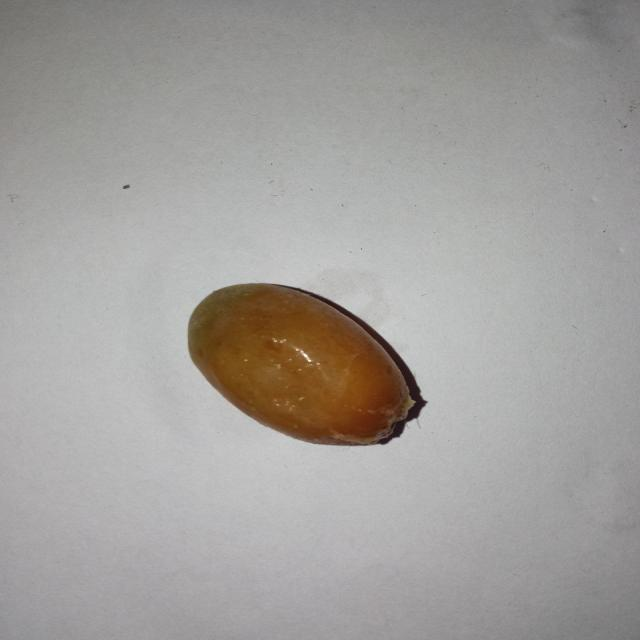rotten_grape: (190, 284, 411, 447)
